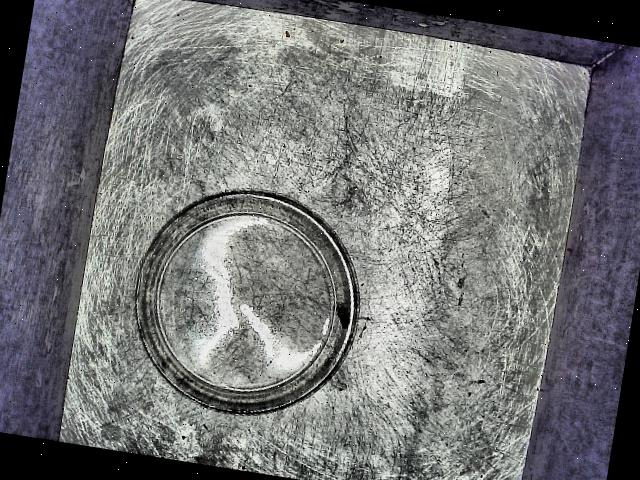Plastic: (101, 160, 396, 442)
